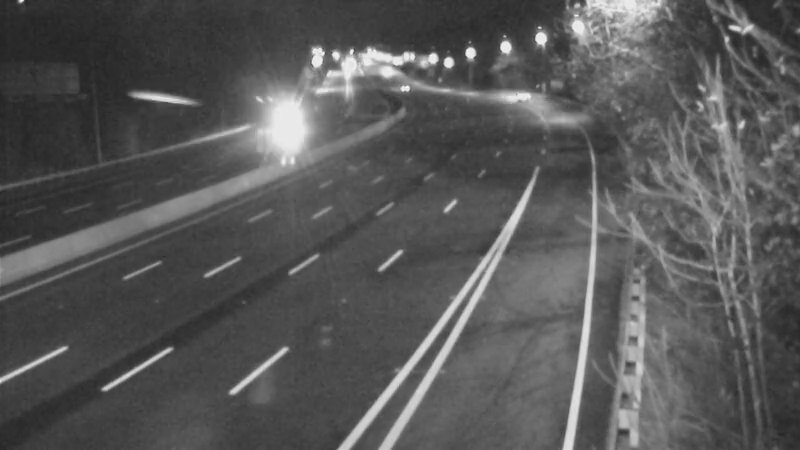vehicle: (379, 65, 429, 115), (490, 68, 540, 118), (252, 96, 302, 146)
